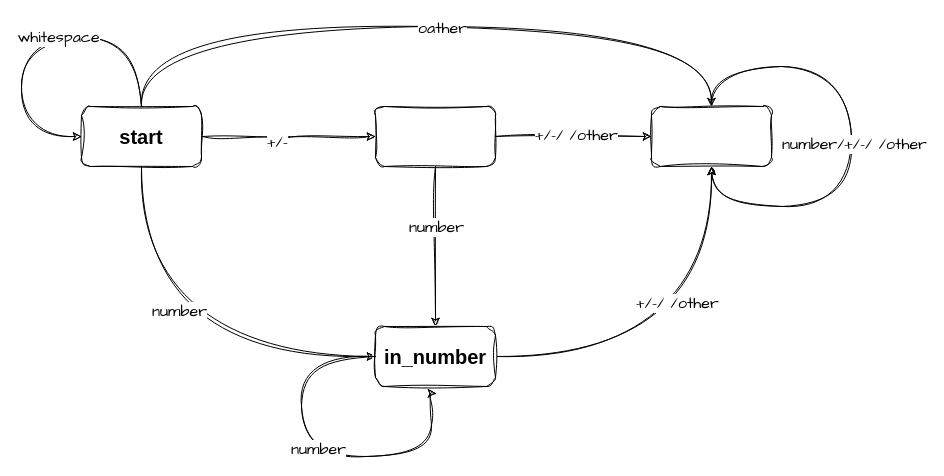
The diagram is 944 pixels wide and 476 high, and some of its shapes have lost their labels. Each missing label, with the box of its shape:
end: (650, 106, 772, 166)
signed: (374, 106, 496, 166)
